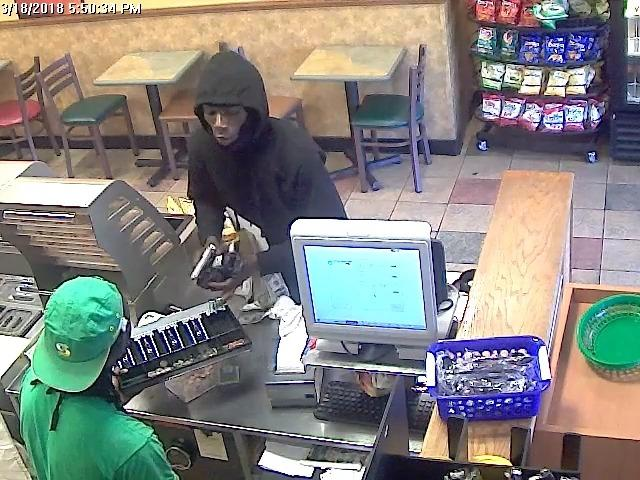weapon: (187, 242, 225, 282)
